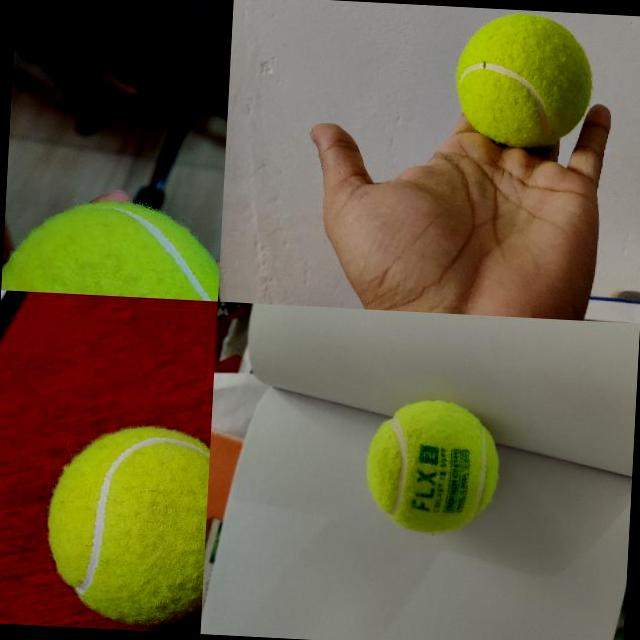tennis-ball: (42, 421, 210, 630), (1, 197, 222, 300), (454, 11, 596, 151), (362, 397, 501, 538)
